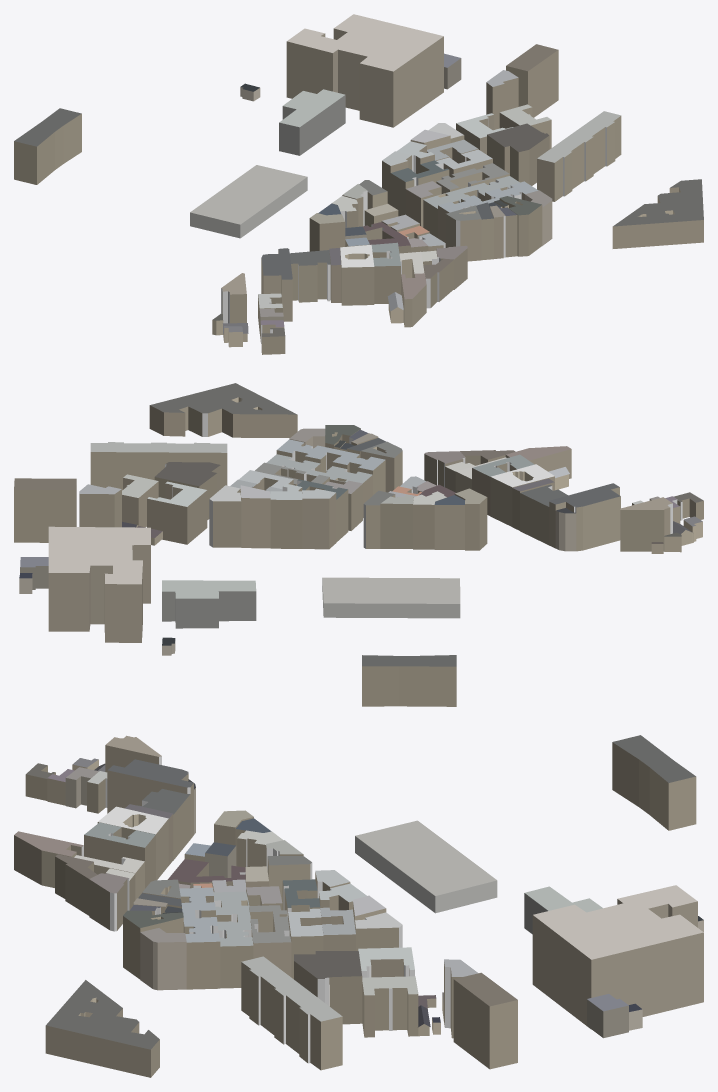
3 renders of one model, top to bottom at view 1: azimuth 30°, elevation 25°; view 2: azimuth 150°, elevation 25°; view 3: azimuth 270°, elevation 25°, orthographic. The views are drawn at different scales.
Parts seen in each view (by area): view 1: tuile; view 2: tuile; view 3: tuile.
Part boxes in pixels (left/top/right/bottom): tuile: left=14, top=14, right=703, bottom=354; tuile: left=14, top=383, right=703, bottom=706; tuile: left=14, top=735, right=703, bottom=1077.
Size of the model in its own units: 270 by 31.42 by 259.
